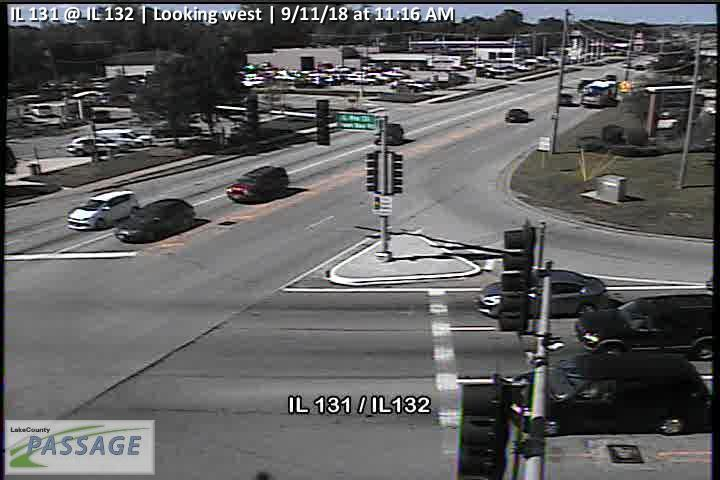Sedan: (575, 291, 719, 362), (473, 268, 609, 317), (114, 198, 194, 241), (66, 188, 137, 230), (224, 165, 289, 203), (68, 135, 128, 154)
